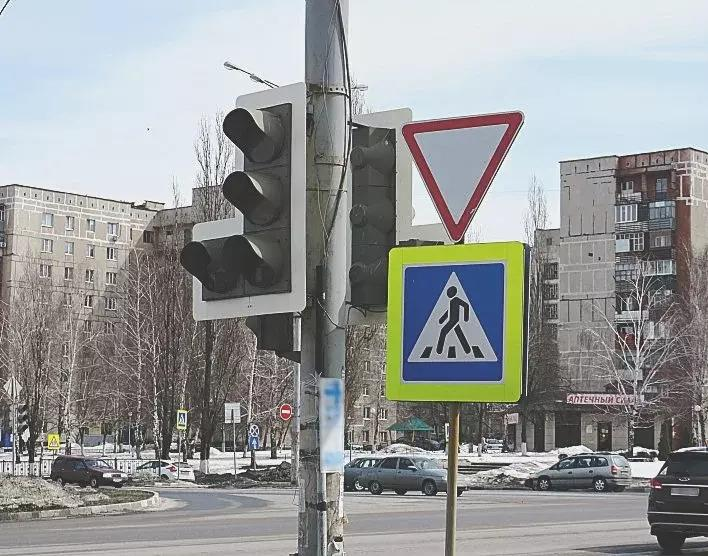off traffic light: (180, 103, 292, 301)
road_sign: (385, 242, 525, 402), (401, 112, 523, 242), (176, 410, 188, 430), (280, 404, 292, 419), (250, 437, 259, 449)
